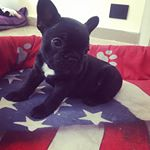puppy: (2, 1, 127, 120)
